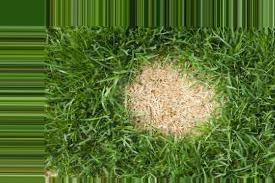patch: (140, 75, 189, 122)
